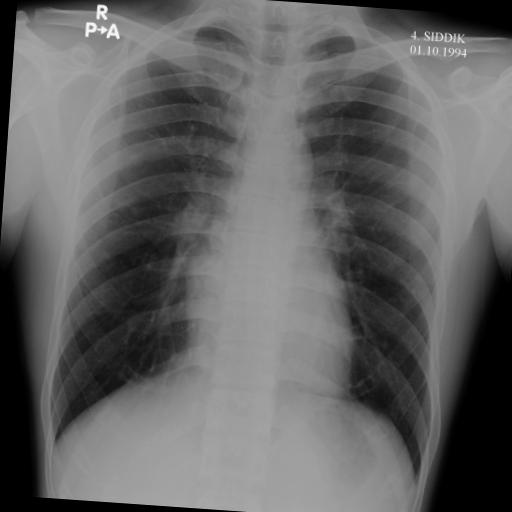normal: (28, 0, 467, 495)
